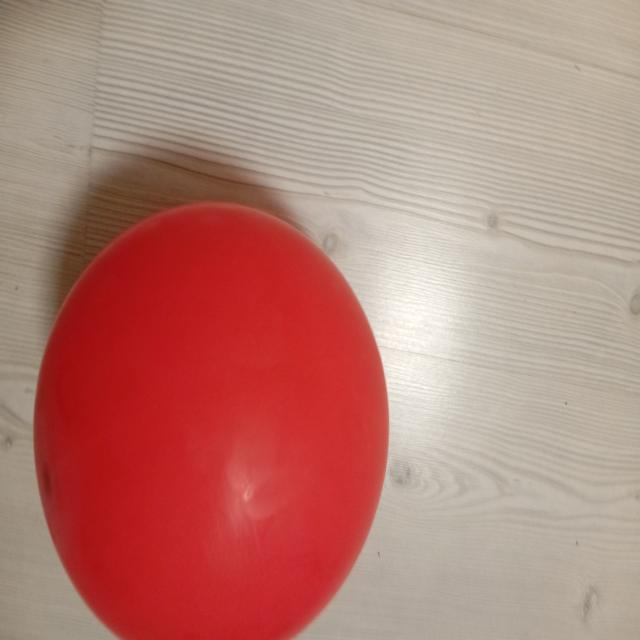balloon: (33, 203, 389, 640)
